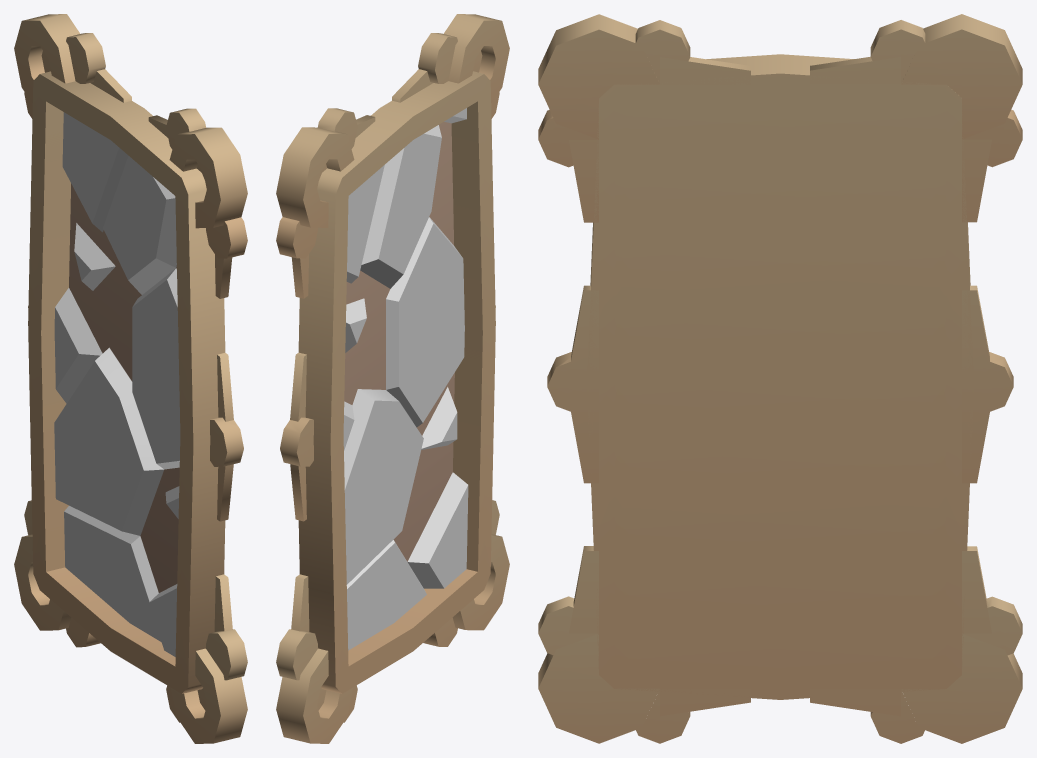
Rendered from mirror-broken (%wall).glb.
3 renders of one model, left to right at view 1: azimuth 30°, elevation 25°; view 2: azimuth 150°, elevation 25°; view 3: azimuth 270°, elevation 25°, orthographic. The views are drawn at different scales.
Parts seen in each view (by area): view 1: mirror-broken (%wall); view 2: mirror-broken (%wall); view 3: mirror-broken (%wall).
Part boxes in pixels (x1=…): mirror-broken (%wall): x1=14, y1=14, x2=247, y2=743; mirror-broken (%wall): x1=276, y1=14, x2=509, y2=743; mirror-broken (%wall): x1=538, y1=14, x2=1022, y2=743.
Size of the model in its own units: 0.075 by 1.3 by 0.7965.
